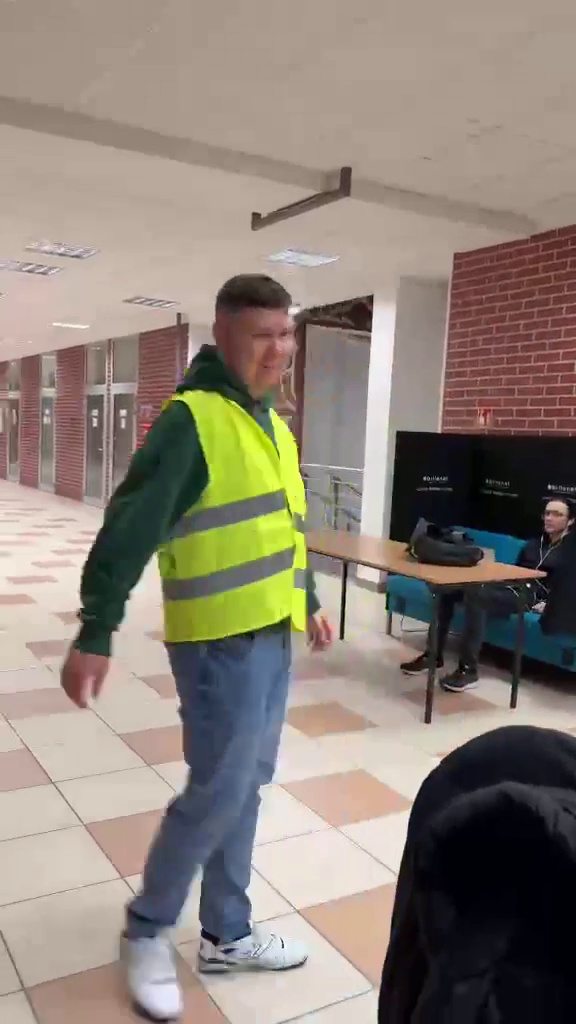no vest: (441, 488, 574, 655)
vest: (74, 274, 360, 998)
